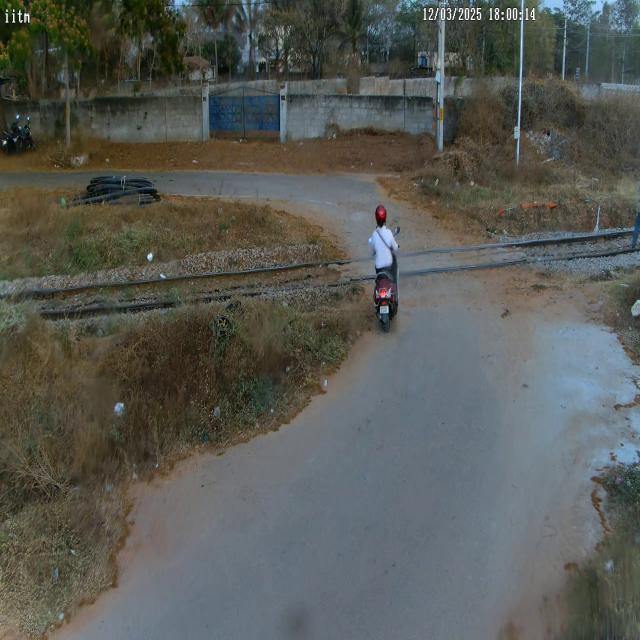objects: (364, 199, 404, 335)
